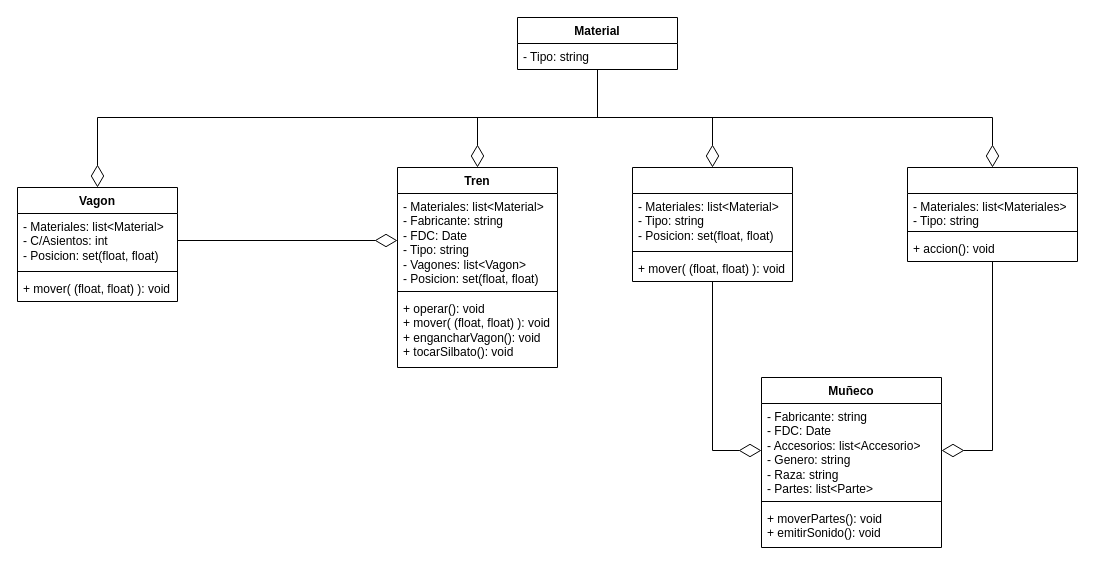
This 1095x568 diagram has some shape labels left out. The box of each missing label's shape, as (x1, y1, x2, y2) in pixels:
Accesorio: (906, 166, 1078, 262)
Parte: (632, 166, 792, 282)
